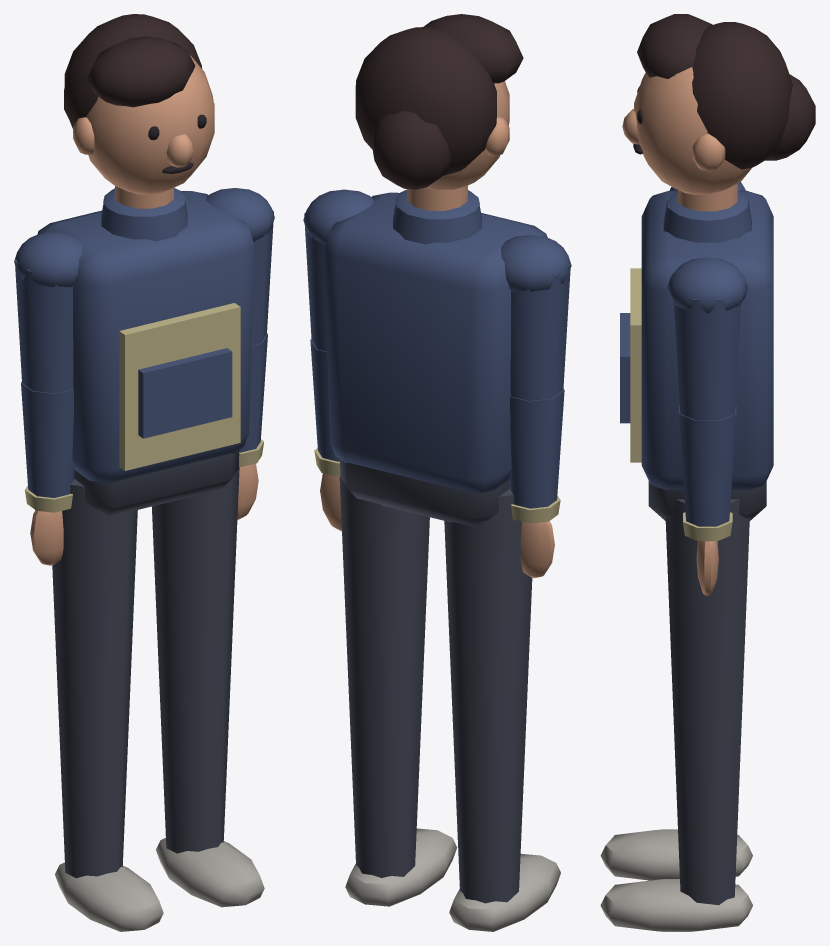
File: resident-aoi.glb
3 views of the same model, side by side, from view 1: azimuth 30°, elevation 25°; view 2: azimuth 150°, elevation 25°; view 3: azimuth 270°, elevation 25° (orthographic). The views are drawn at different scales.
Visible parts, largest first — view 1: torso, leg.R, leg.L, head, upperArm.R, lowerArm.R, hips, upperArm.L, lowerArm.L, hand.R, hand.L; view 2: torso, leg.R, leg.L, head, upperArm.R, lowerArm.R, hips, upperArm.L, lowerArm.L, hand.R, hand.L; view 3: leg.L, torso, head, upperArm.L, lowerArm.L, leg.R, hips, hand.L.
Boxes of the visible parts, x1=… form: torso: x1=37, y1=188, x2=254, y2=483; leg.R: x1=52, y1=479, x2=163, y2=931; leg.L: x1=152, y1=467, x2=264, y2=907; head: x1=64, y1=14, x2=214, y2=208; upperArm.R: x1=14, y1=232, x2=82, y2=393; lowerArm.R: x1=21, y1=381, x2=74, y2=512; hips: x1=74, y1=450, x2=239, y2=516; upperArm.L: x1=206, y1=188, x2=274, y2=345; lowerArm.L: x1=239, y1=333, x2=267, y2=467; hand.R: x1=30, y1=510, x2=63, y2=565; hand.L: x1=237, y1=463, x2=258, y2=520; torso: x1=324, y1=189, x2=547, y2=493; leg.R: x1=444, y1=489, x2=560, y2=931; leg.L: x1=339, y1=477, x2=456, y2=906; head: x1=355, y1=14, x2=523, y2=210; upperArm.R: x1=501, y1=235, x2=571, y2=400; lowerArm.R: x1=509, y1=389, x2=564, y2=523; hips: x1=340, y1=459, x2=509, y2=527; upperArm.L: x1=303, y1=189, x2=373, y2=351; lowerArm.L: x1=310, y1=339, x2=340, y2=476; hand.R: x1=520, y1=521, x2=554, y2=578; hand.L: x1=320, y1=473, x2=341, y2=531; leg.L: x1=600, y1=499, x2=752, y2=931; torso: x1=620, y1=190, x2=773, y2=490; head: x1=622, y1=14, x2=815, y2=211; upperArm.L: x1=667, y1=257, x2=747, y2=420; lowerArm.L: x1=679, y1=405, x2=736, y2=541; leg.R: x1=600, y1=829, x2=752, y2=880; hips: x1=648, y1=481, x2=766, y2=520; hand.L: x1=696, y1=541, x2=718, y2=595.
Size of the model in its own units: 0.52 by 1.71 by 0.3829.
